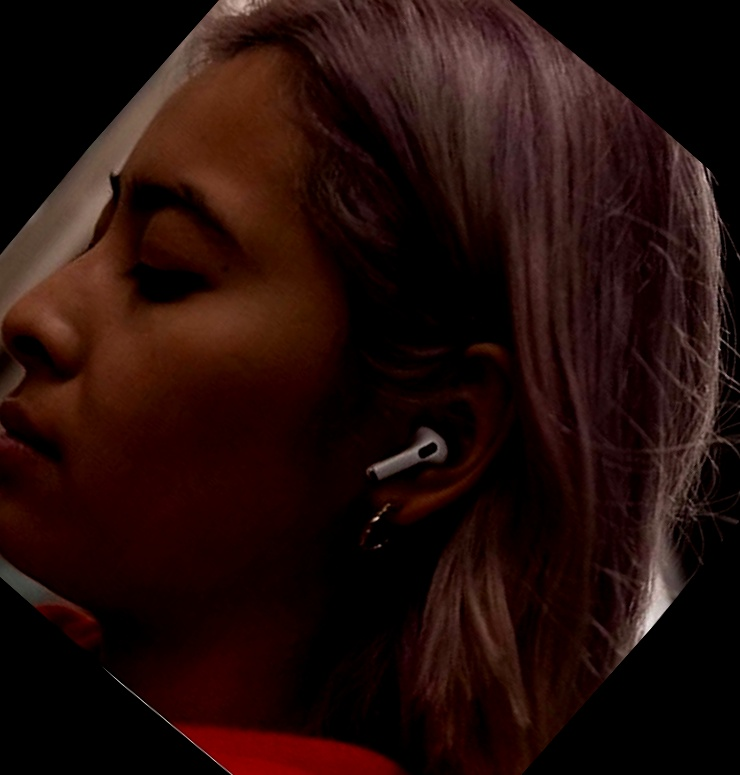earphone: (338, 320, 563, 555)
